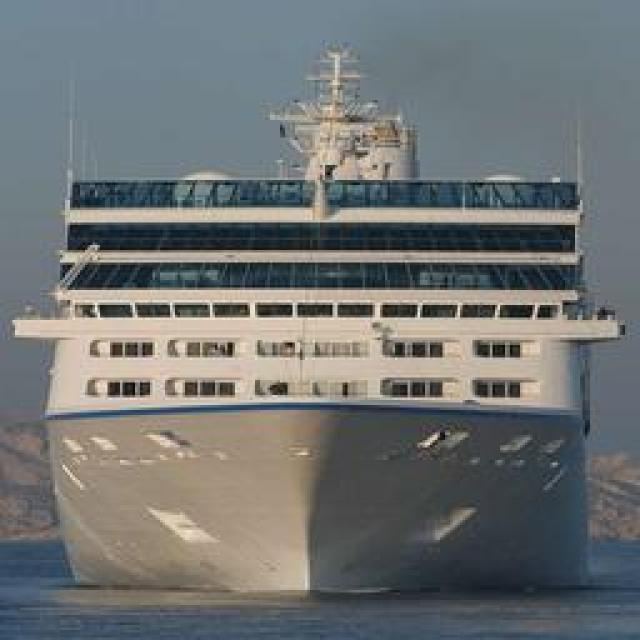CIV_Ship: (24, 132, 626, 600)
